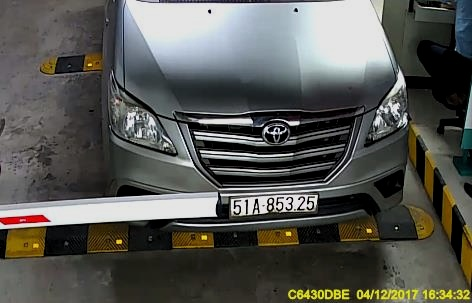plate: (228, 190, 321, 221)
